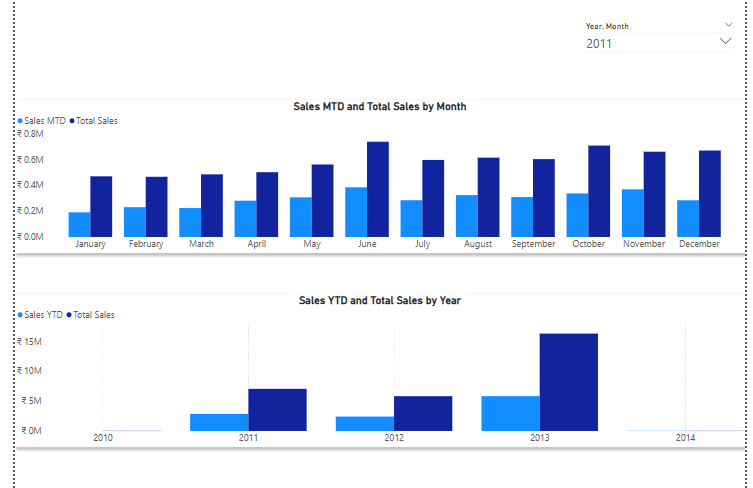

What the dashboard file says about the page in this screenshot:
{"tool":"powerbi","page":{"name":"MTD & YTD","canvas":[2600,1780],"ordinal":2},"visuals":[{"type":"clusteredColumnChart","fields":{"Category":["calendar.OrderDate.Variation.Date Hierarchy.Month"],"Y":["DAX Measures.Sales MTD","DAX Measures.Total Sales"]},"box":[0,382.3,2598.8,544.7],"z":0},{"type":"slicer","fields":{"Values":["calendar.OrderDate.Variation.Date Hierarchy.Year"]},"box":[2018.5,96.1,548.2,217.2],"z":1000},{"type":"shape","box":[0,331.1,2598.8,658.6],"z":2000},{"type":"clusteredColumnChart","fields":{"Y":["DAX Measures.Sales YTD","DAX Measures.Total Sales"],"Category":["calendar.OrderDate.Variation.Date Hierarchy.Year"]},"box":[0,1071.6,2598.8,544.7],"z":3000}]}

Visuals, with their boxes on the page's 2600x1780 design canvas (x1, y1, x2, y2). These are canvas units, not pixel positions in the 753x488 screenshot, which may show the page scaled, cropped or inside an application window:
clusteredColumnChart - calendar.OrderDate.Variation.Date Hierarchy.Month x DAX Measures.Sales MTD: <region>0, 382, 2599, 927</region>
slicer - calendar.OrderDate.Variation.Date Hierarchy.Year: <region>2018, 96, 2567, 313</region>
shape: <region>0, 331, 2599, 990</region>
clusteredColumnChart - DAX Measures.Sales YTD x DAX Measures.Total Sales: <region>0, 1072, 2599, 1616</region>
